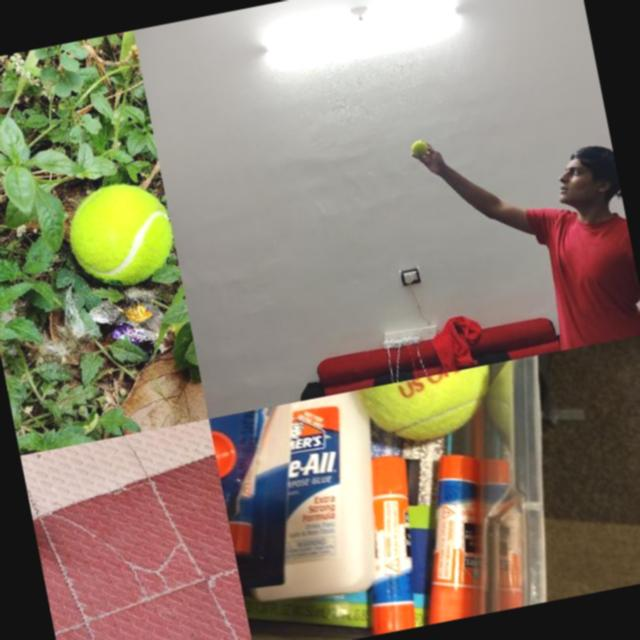tennis-ball: (60, 176, 180, 294), (354, 364, 504, 453), (410, 138, 430, 158)
